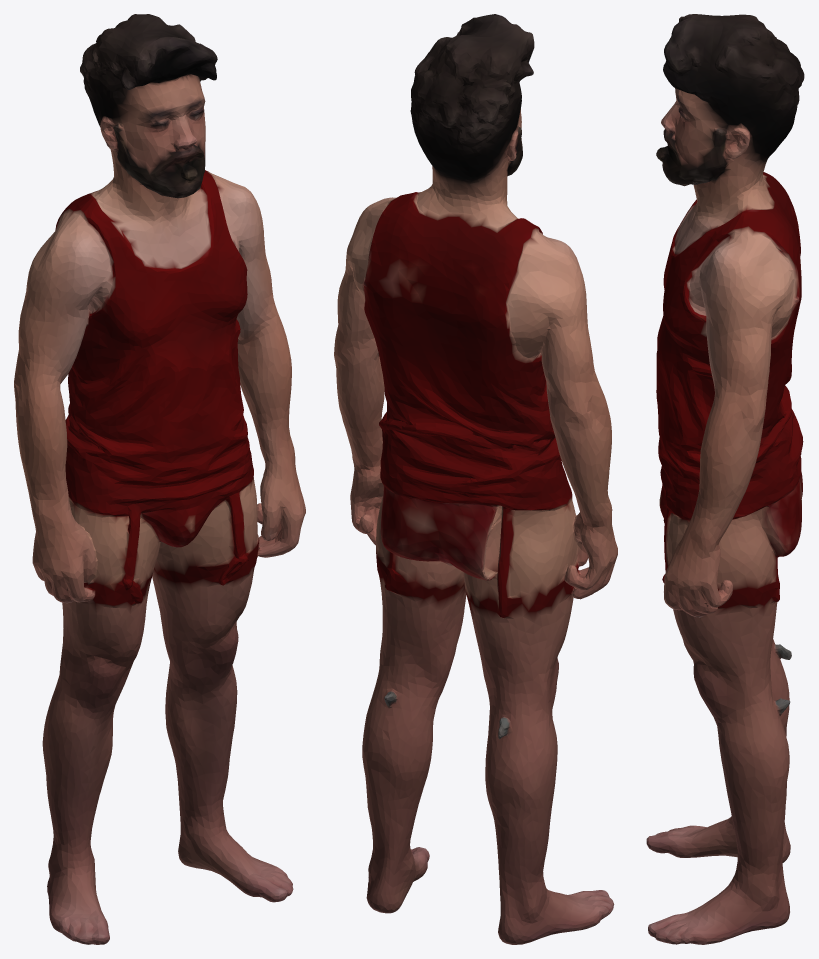
The model's file is smoll_skin_red.glb.
3 views of the same model, side by side, from view 1: azimuth 30°, elevation 25°; view 2: azimuth 150°, elevation 25°; view 3: azimuth 270°, elevation 25° (orthographic).
Size of the model in its own units: 0.3159 by 1 by 0.1647.
